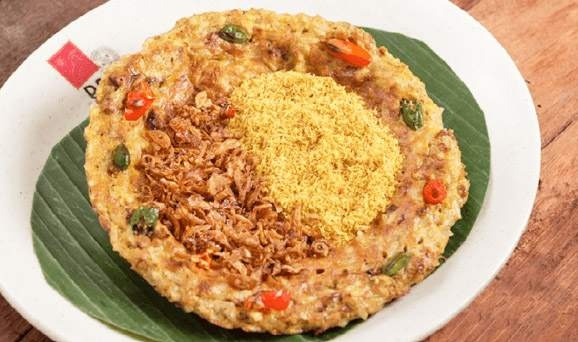kerak_telor: (84, 5, 472, 339)
